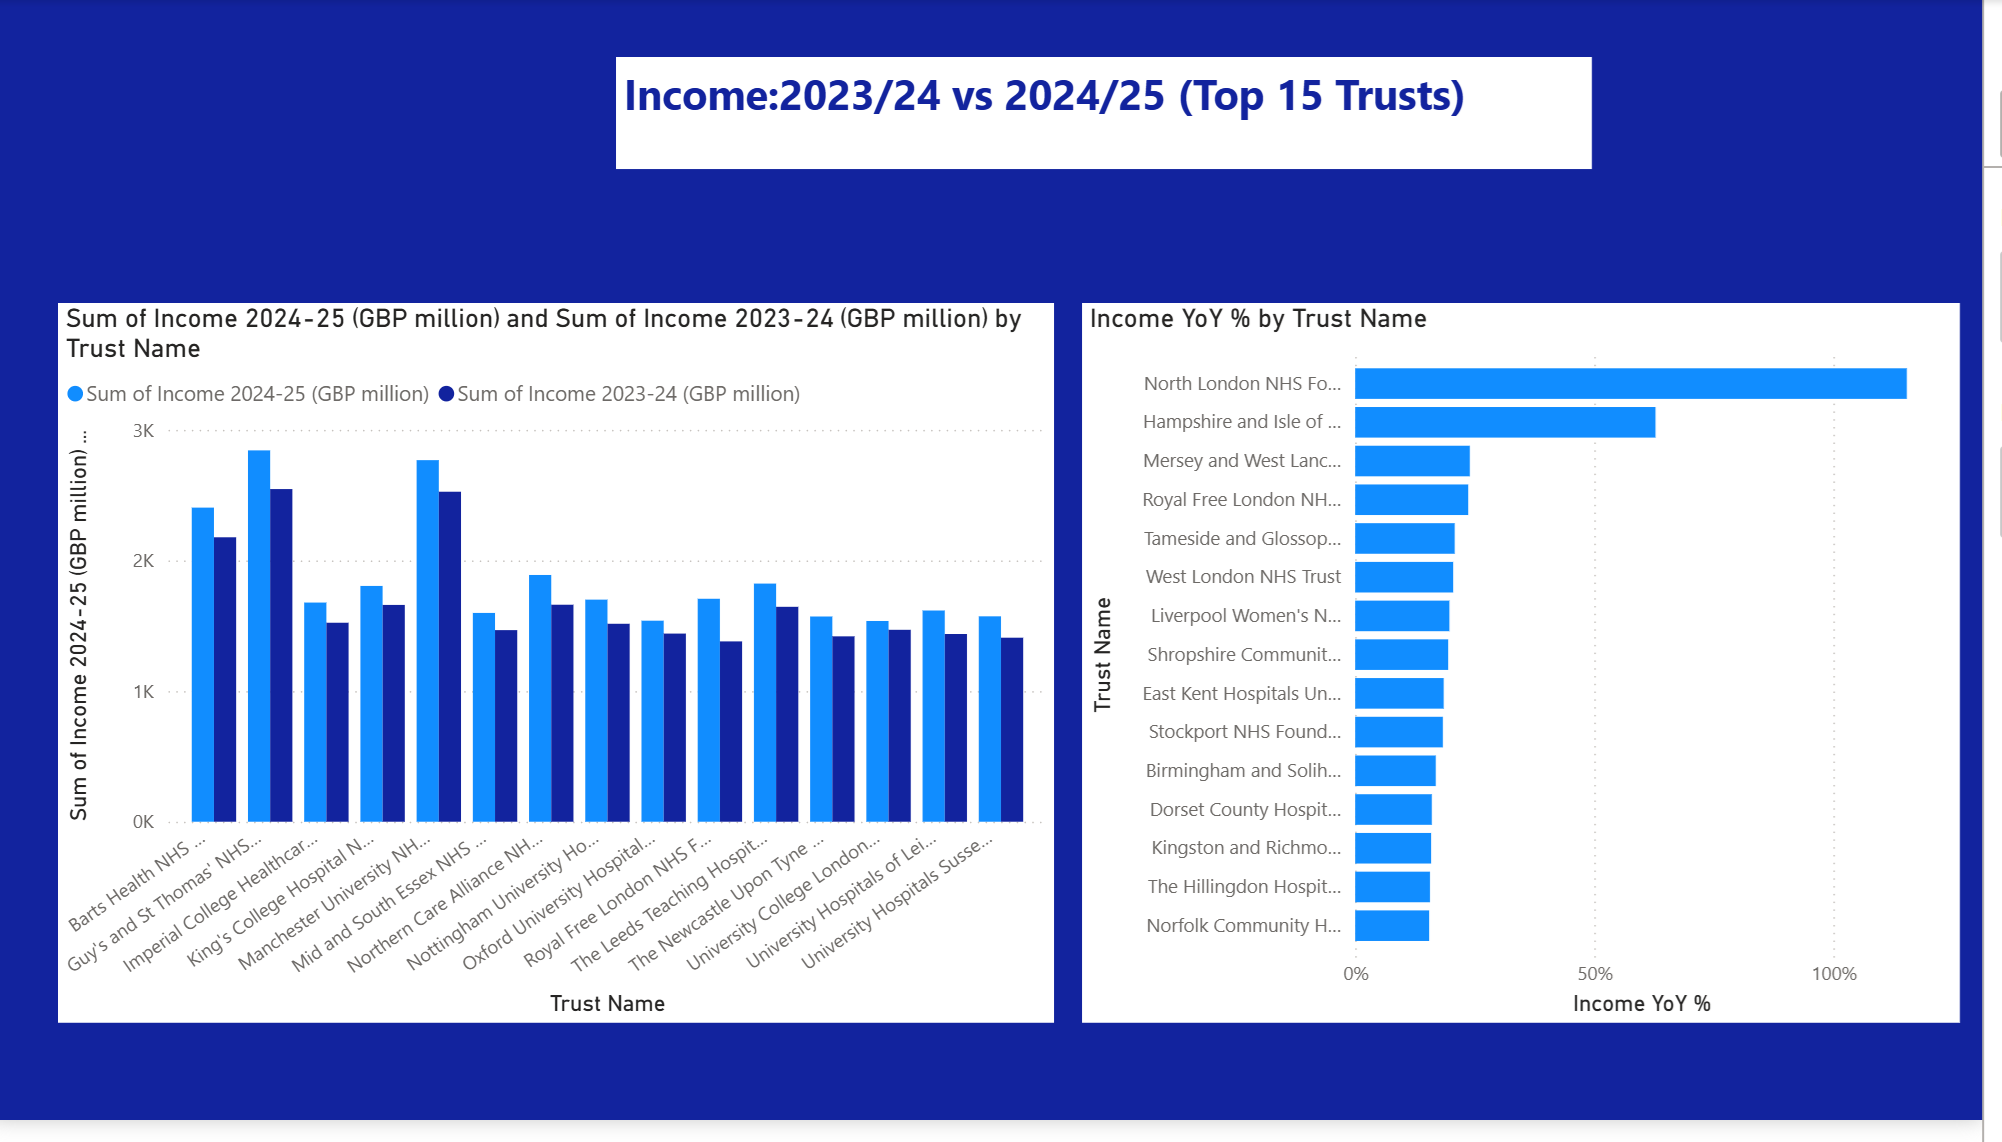

This screenshot's page, from the dashboard's own definition file:
{"tool":"powerbi","page":{"name":"YoY Trends","canvas":[1280,720],"ordinal":2},"visuals":[{"type":"clusteredColumnChart","fields":{"Category":["Summary by Trust.Trust Name"],"Y":["Sum(Summary by Trust.Income 2024-25 (GBP million))","Sum(Summary by Trust.Income 2023-24 (GBP million))"]},"box":[43.7,195.3,640,462.7],"z":0},{"type":"textbox","box":[402.2,37.3,627.1,72],"z":1000},{"type":"clusteredBarChart","fields":{"Category":["Summary by Trust.Trust Name"],"Y":["Summary by Trust.Income YoY %"]},"box":[701.7,195.3,564.2,462.7],"z":2000}]}

Visuals, with their boxes in screenshot pixels (x1, y1, x2, y2), scaled from the page's 1280x720 canvas onto the 2002x1142 screenshot:
clusteredColumnChart - Summary by Trust.Trust Name x Sum(Summary by Trust.Income 2024-25 (GBP million)): bbox(68, 310, 1069, 1044)
textbox: bbox(629, 59, 1610, 173)
clusteredBarChart - Summary by Trust.Trust Name x Summary by Trust.Income YoY %: bbox(1098, 310, 1980, 1044)
